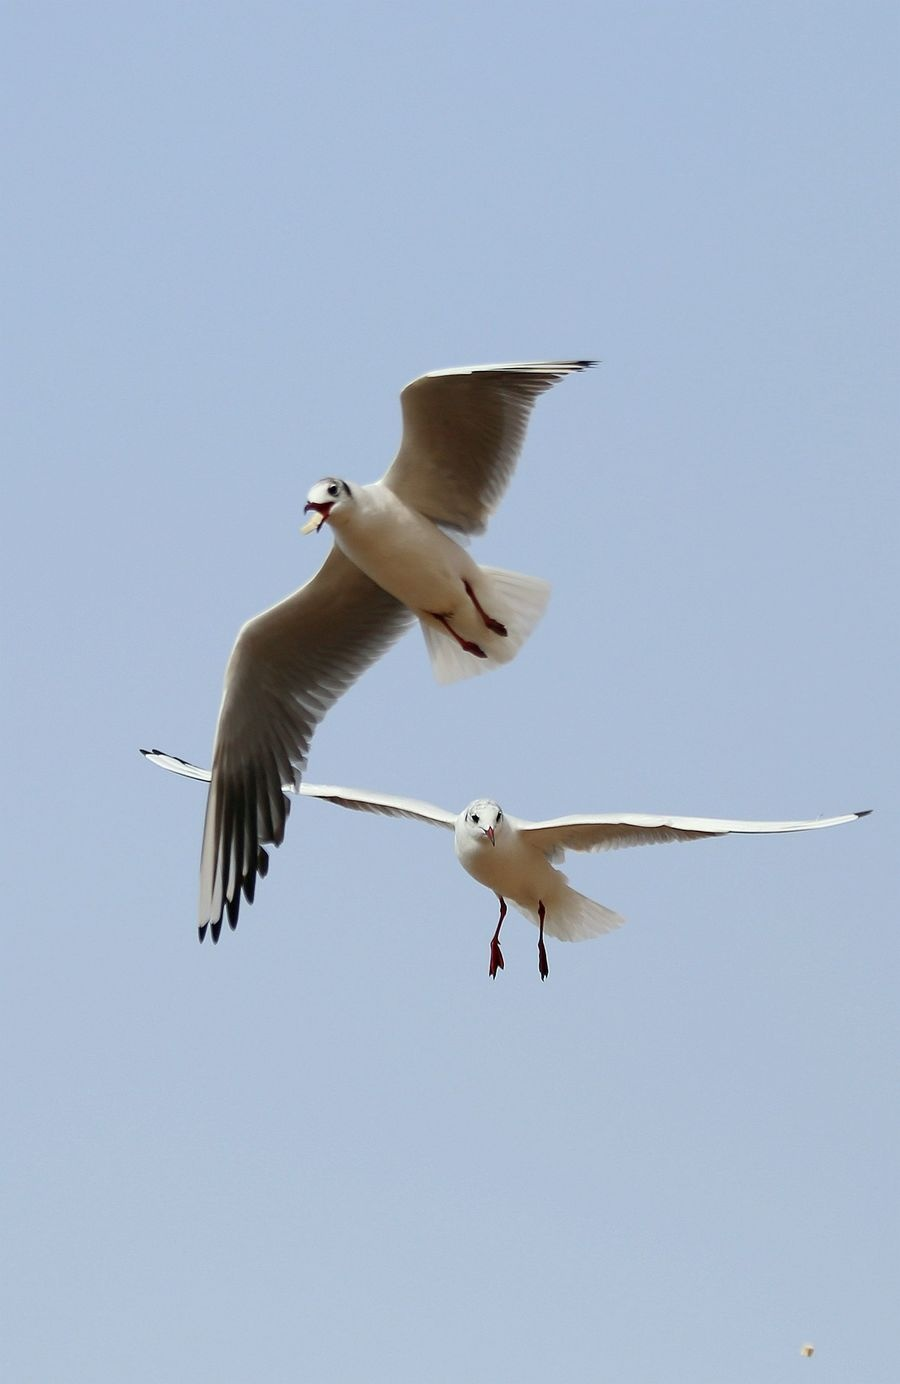bird: (164, 341, 594, 941), (134, 738, 873, 975)
